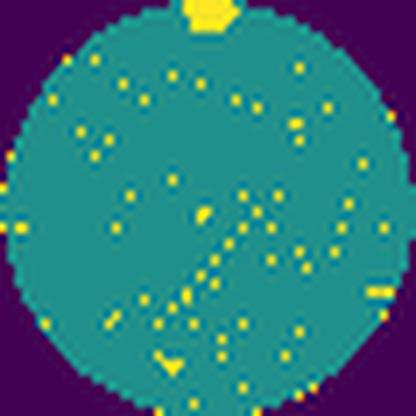Edge-Loc: (177, 0, 248, 43)
